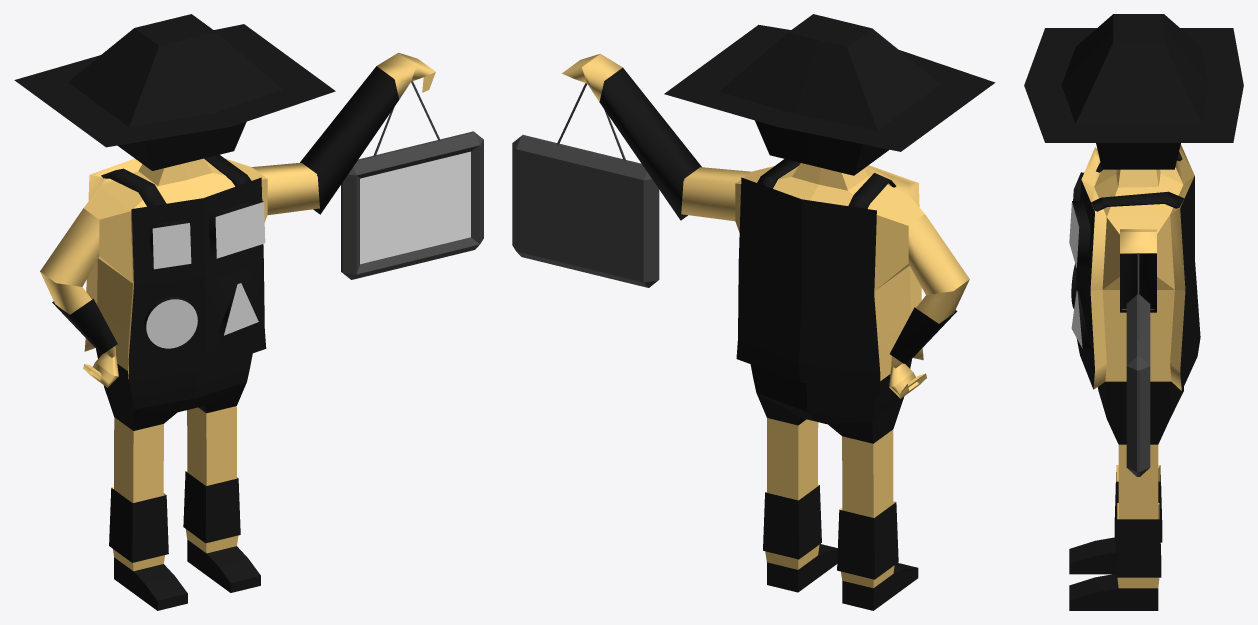
The model's file is NPCWithBoard.fbx.
3 views of the same model, side by side, from view 1: azimuth 30°, elevation 25°; view 2: azimuth 150°, elevation 25°; view 3: azimuth 270°, elevation 25° (orthographic). The views are drawn at different scales.
Parts seen in each view (by area): view 1: Cube, Cube.001; view 2: Cube, Cube.001; view 3: Cube, Cube.001.
Boxes of the visible parts, x1,y1,x2,y2 form: Cube: (14,14,435,610); Cube.001: (341,81,483,279); Cube: (562,14,995,610); Cube.001: (512,83,659,287); Cube: (1024,14,1243,610); Cube.001: (1126,253,1150,476).
Bounding box in the file's own units: 106 × 127 × 45.32.
